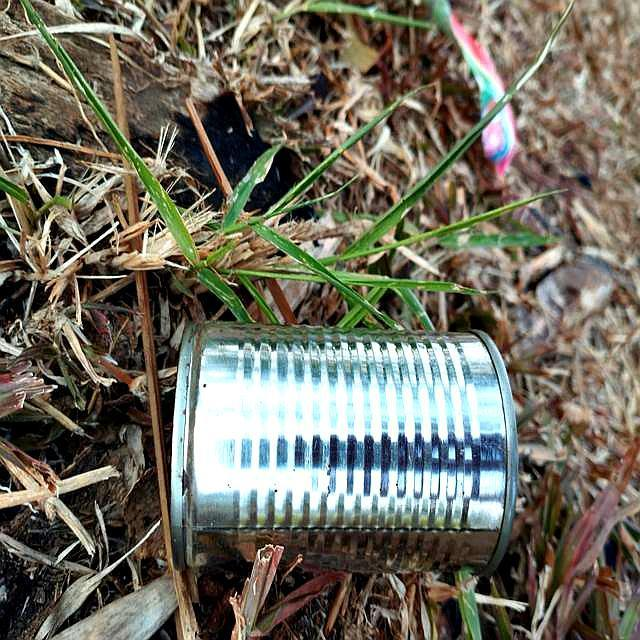Non-biodegradable: (171, 325, 515, 585)
